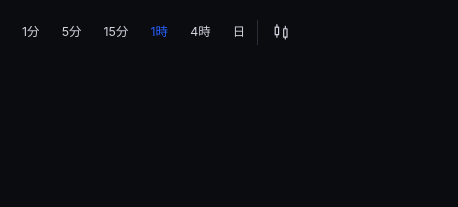
Test: 圖表上換畫法 › 畫法收成一顆，按下去才展開四種
Click the button with test id "drawing-menu-button": click(281, 32) [261,12,301,52]
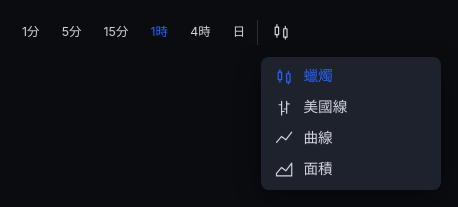
expect the elements with test id "drawing-button" read "蠟燭", "美國線", "曲線", "面積", in this order: met, box [261,61,441,92]; [261,92,441,123]; [261,123,441,154]; [261,154,441,185]
